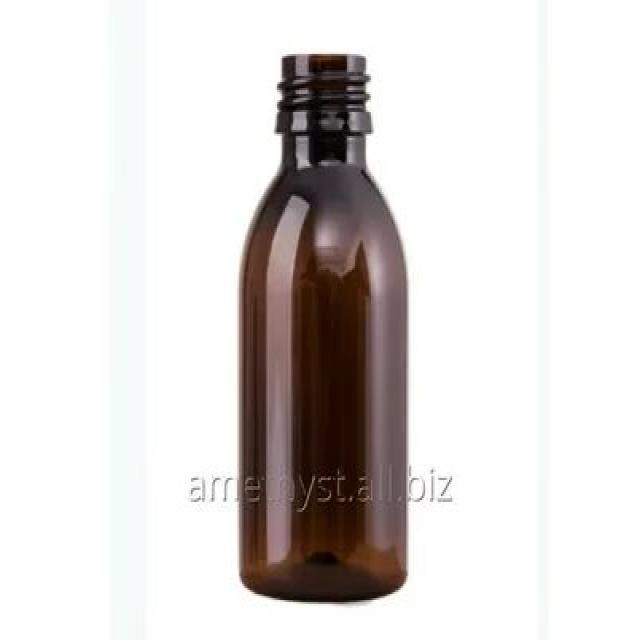brown: (242, 53, 408, 600)
